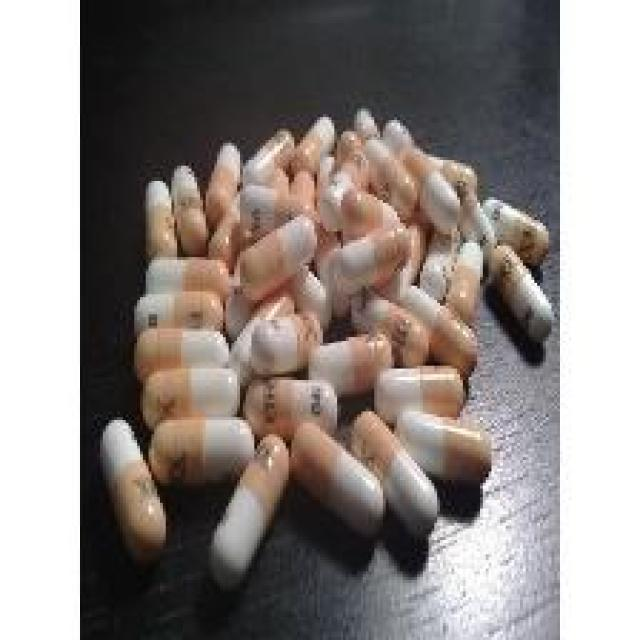Medicine: (90, 98, 565, 582)
